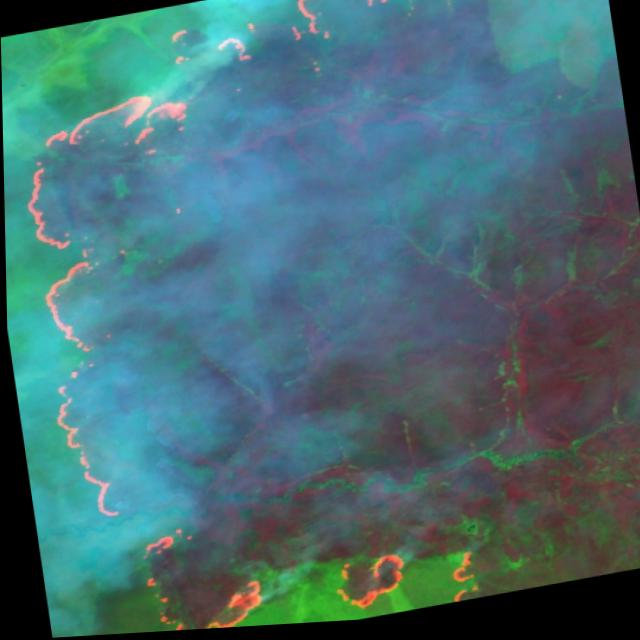fire: (0, 0, 556, 640)
